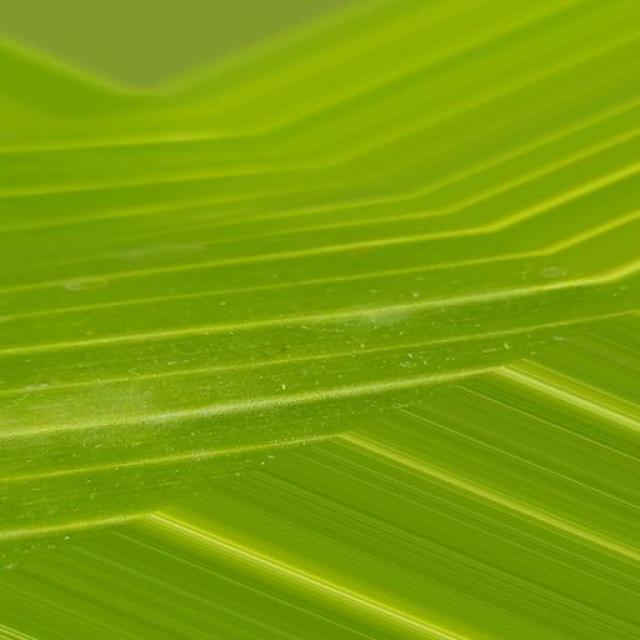Black_leaf_spot: (0, 75, 635, 526)
